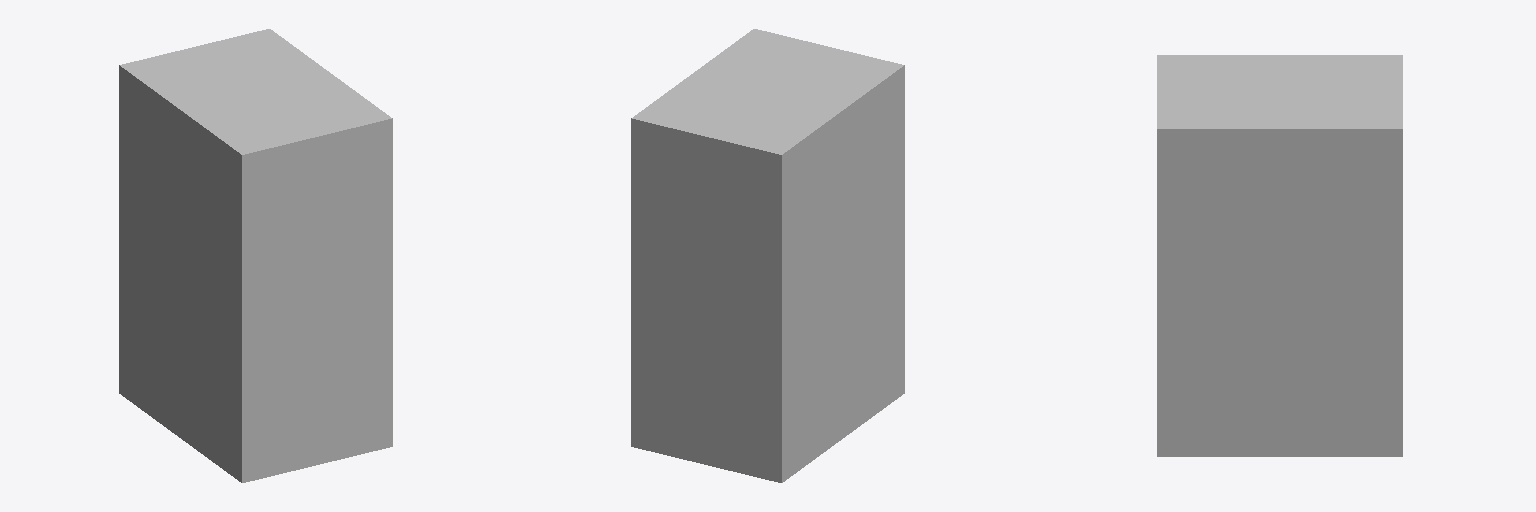
The model's file is estante_mediano.obj.
3 renders of one model, left to right at view 1: azimuth 30°, elevation 25°; view 2: azimuth 150°, elevation 25°; view 3: azimuth 270°, elevation 25°, orthographic.
Parts seen in each view (by area): view 1: polySurface910; view 2: polySurface910; view 3: polySurface910.
Part boxes in pixels (bbox=[...]): polySurface910: bbox=[119, 29, 392, 482]; polySurface910: bbox=[631, 29, 904, 482]; polySurface910: bbox=[1157, 55, 1402, 456].
Size of the model in its own units: 3.89 by 8.11 by 5.5.